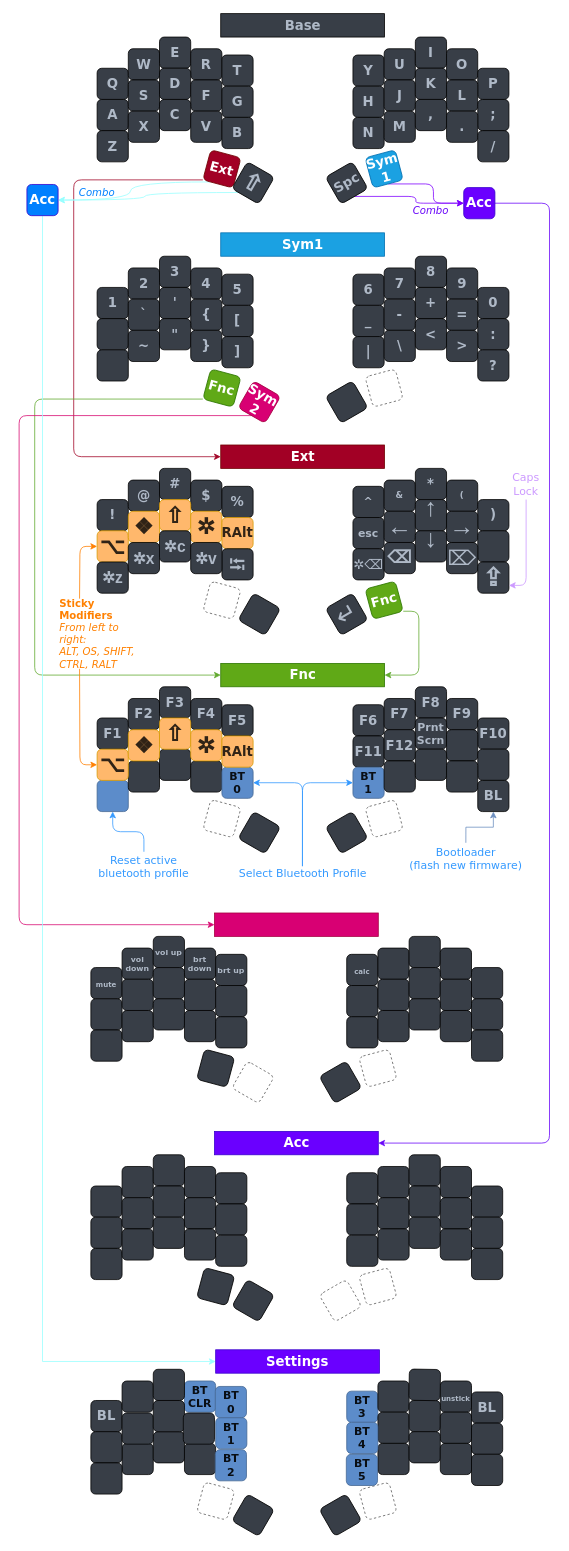
Some shapes in this 569 by 1551 pixel diagram are drawn without their labels. Here are the shapes that lost their labels. From the top down, the centre of each, then its label:
the point at 112,796: BT RES
the point at 296,924: Sym2
